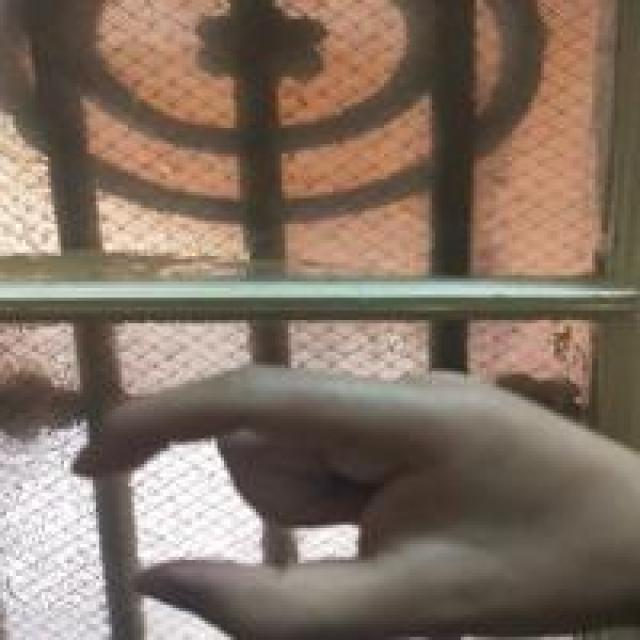Q: (61, 358, 640, 640)
